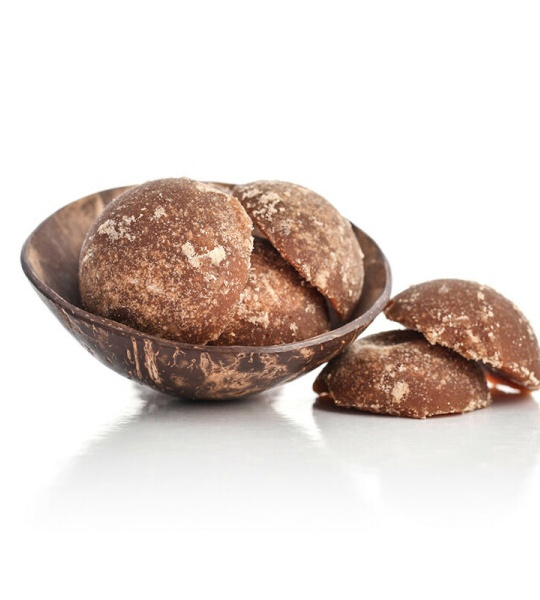hakuru: (77, 176, 254, 336), (233, 171, 367, 322), (383, 278, 539, 394), (308, 330, 498, 415)
